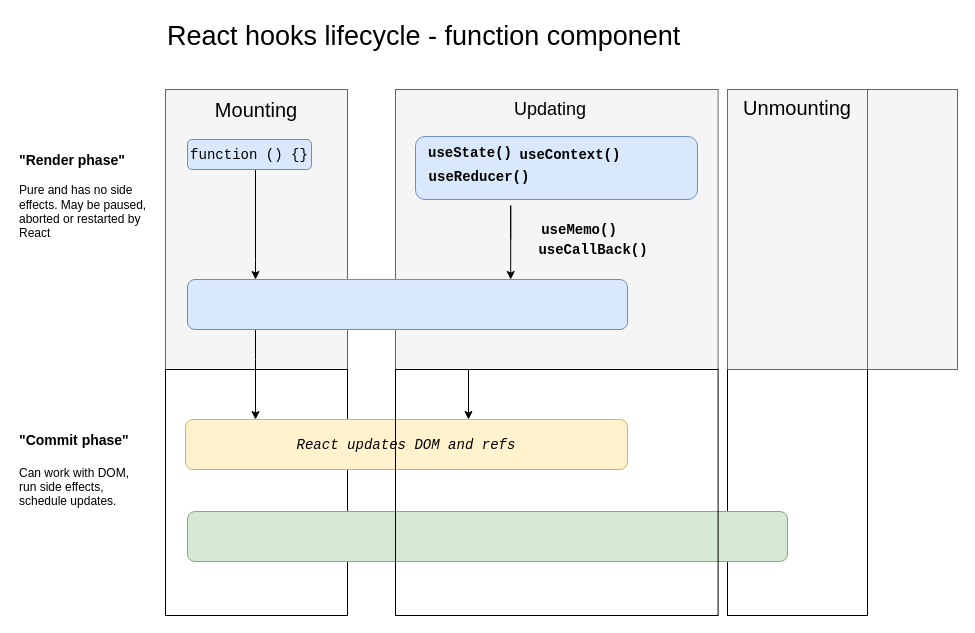
Some shapes in this 975 by 633 pixel diagram are drawn without their labels. Each missing label, with the centre of its shape:
return (): [407,304]
useEffect() useLayoutEffect(): [487,536]
